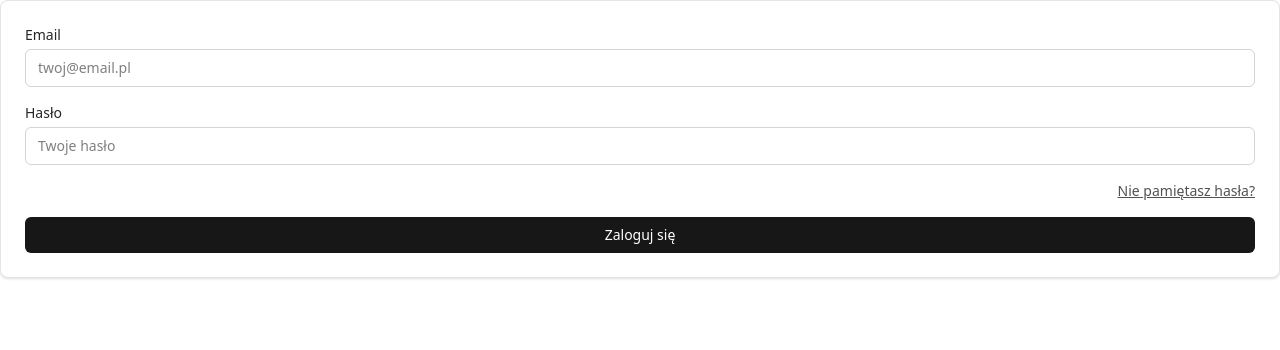
Test: LoginForm › blokuje submit i pokazuje błąd dla pustego hasła
Type "a@b.com" into the field labelled "Email".
click(640, 68); type("a@b.com")  # box [25,49,1255,87]
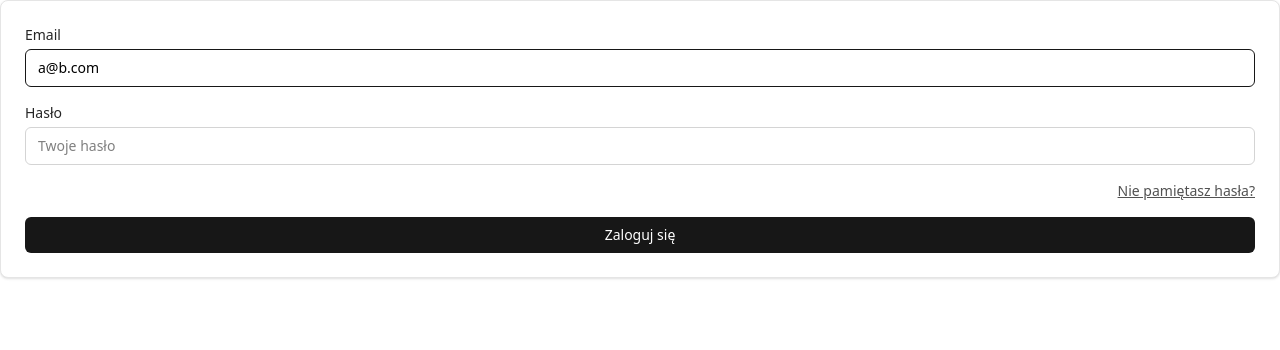
Click the button "Zaloguj się".
click(640, 235)  # box [25,217,1255,253]
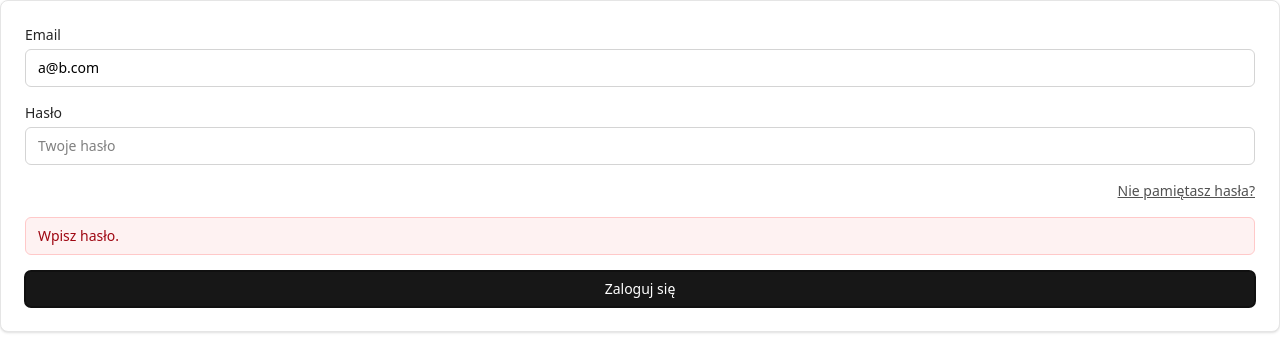
Check: the message reads "Wpisz hasło.", box [38,226,119,245]
